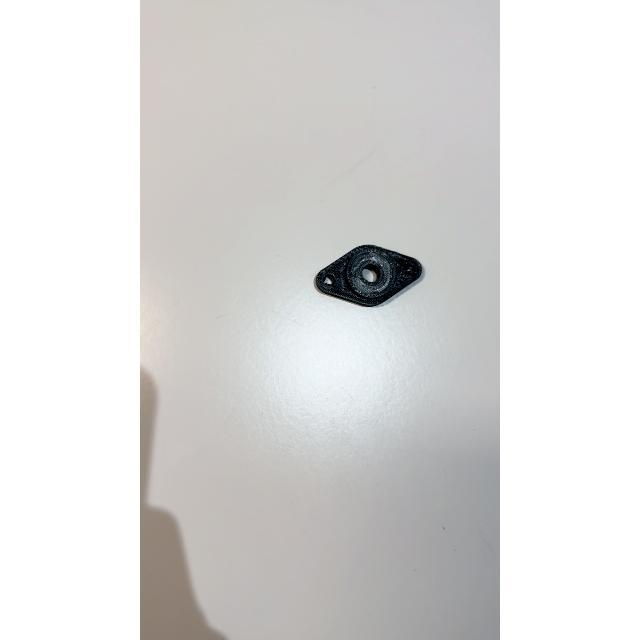Pieza2: (302, 230, 432, 318)
